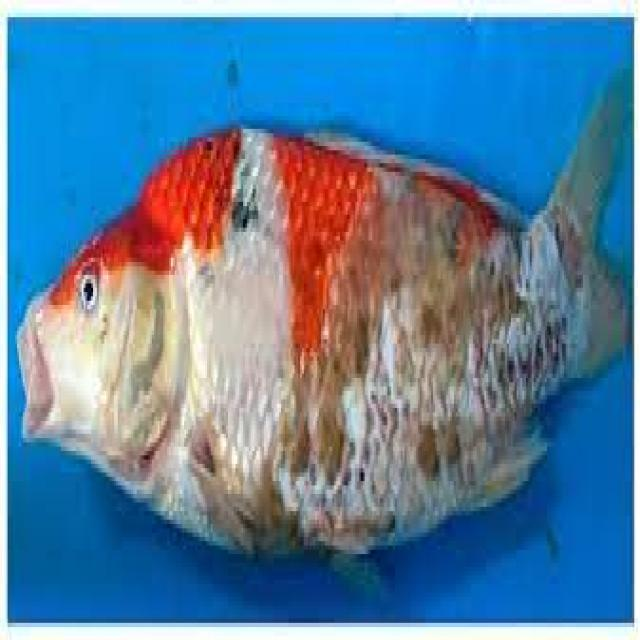EUS Disease: (18, 86, 636, 562), (62, 149, 625, 564)
